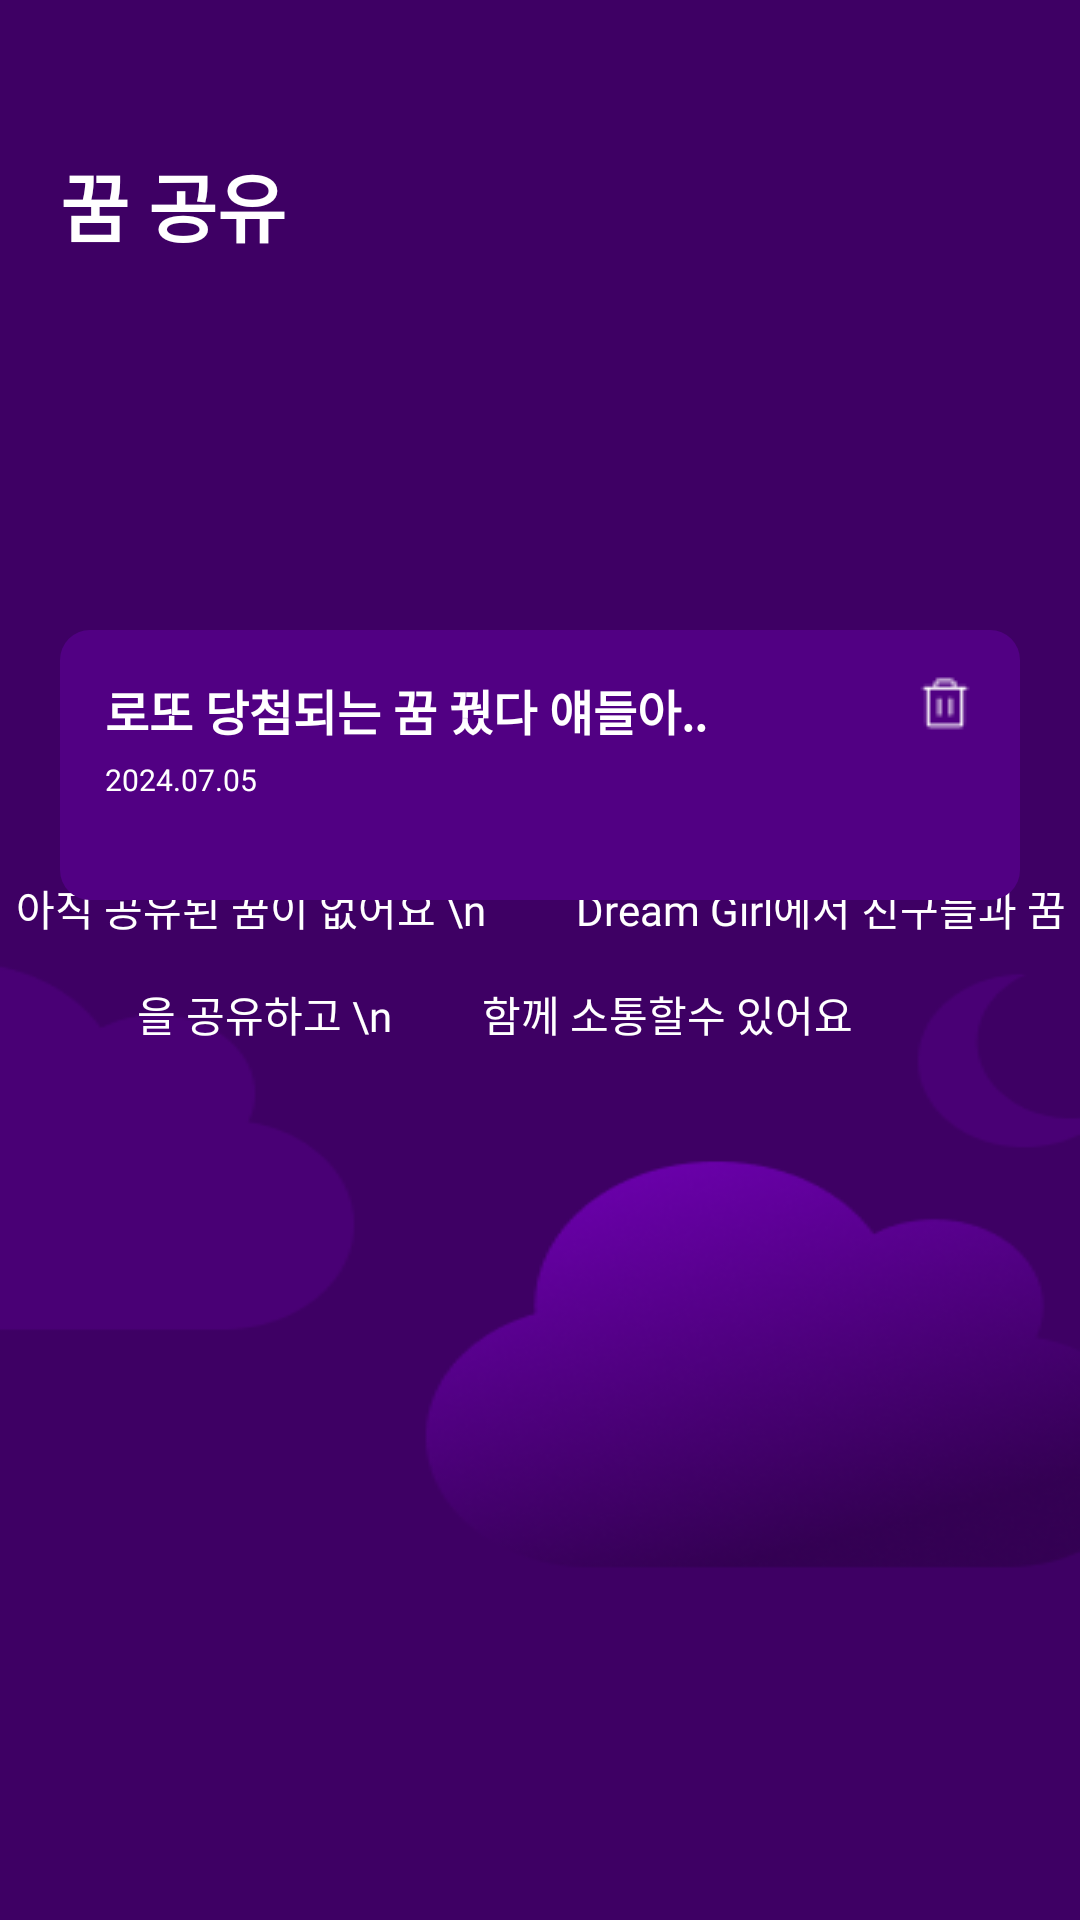

Where icons sit on this 1080px×1920px app screen, as (left=x1, top=y1, right=x2, bottom=y2):
delete: (left=921, top=677, right=969, bottom=730)
